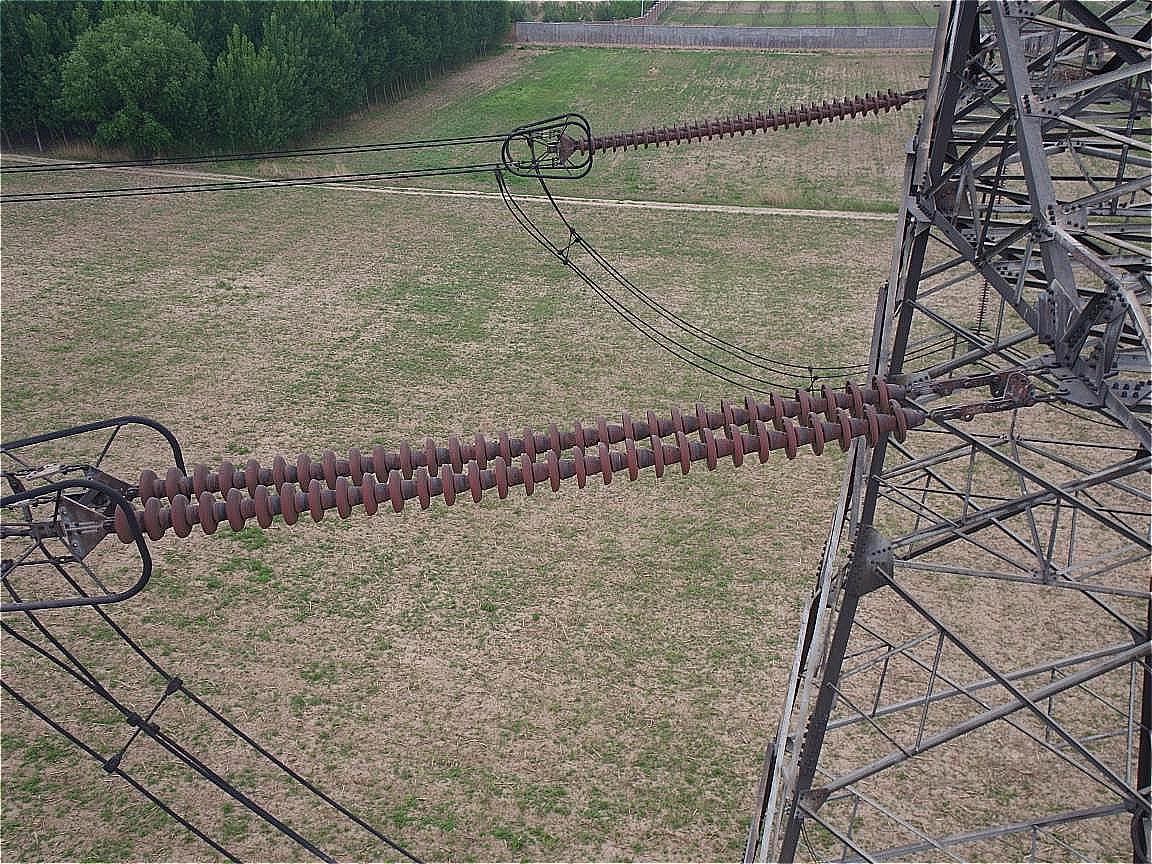insultor1: (97, 368, 922, 538), (564, 82, 902, 180)
